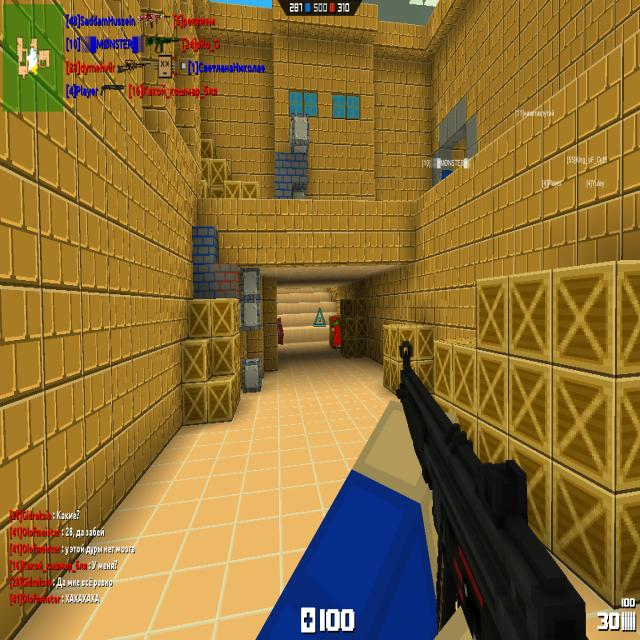enemy: (330, 315, 342, 349), (276, 316, 284, 346)
